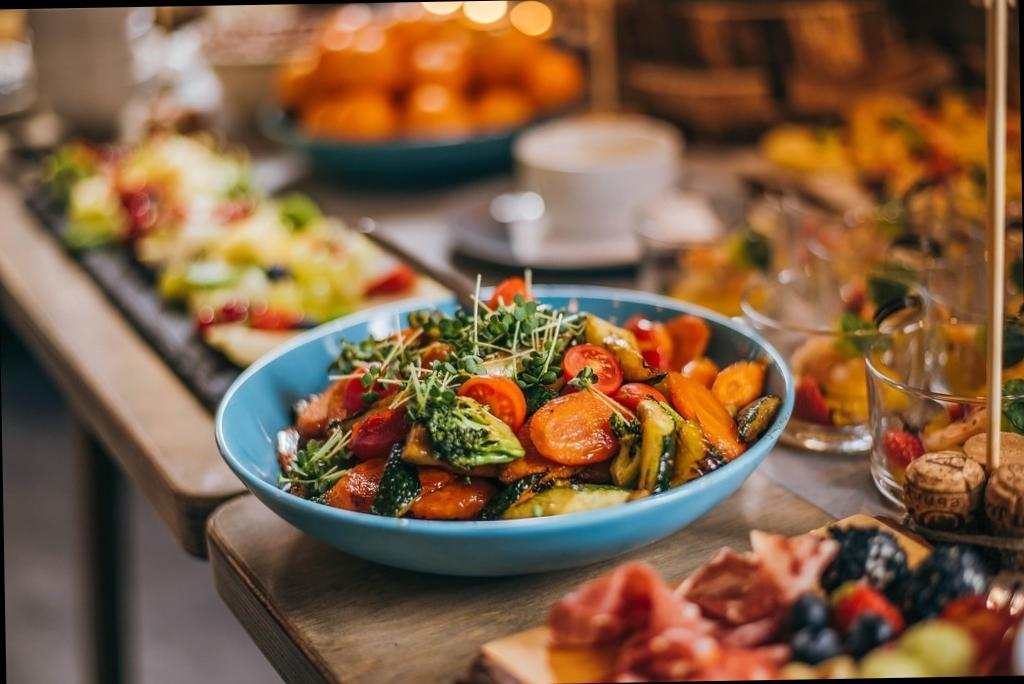reference_object: (235, 296, 752, 538)
